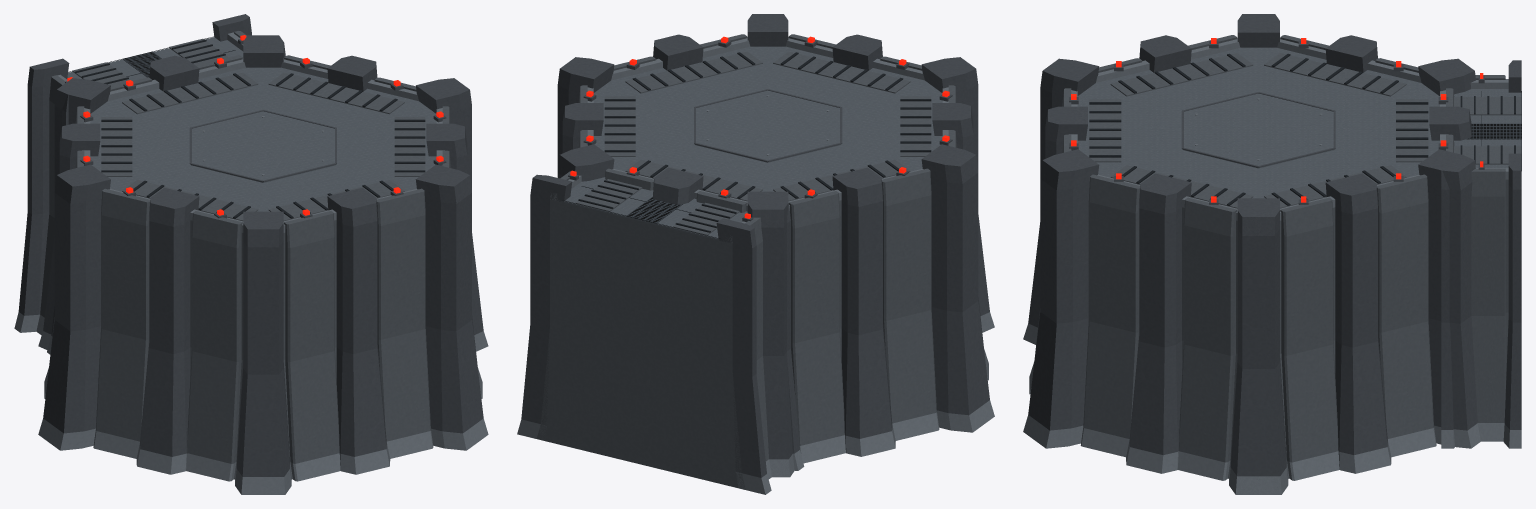
File: terminal.glb
The picture shows the model from 3 angles, left to right: view 1: azimuth 30°, elevation 25°; view 2: azimuth 150°, elevation 25°; view 3: azimuth 270°, elevation 25°; orthographic projection. The views are drawn at different scales.
Parts seen in each view (by area): view 1: terminal-lod0-roof0, terminal-lod0-base0, terminal-lod0-floor0, terminal-lod0-roof0-link-n, terminal-lod0-base0-link-n, terminal-lod0-floor0-link-n; view 2: terminal-lod0-roof0, terminal-lod0-base0-link-n, terminal-lod0-base0, terminal-lod0-floor0-link-n, terminal-lod0-floor0, terminal-lod0-roof0-link-n; view 3: terminal-lod0-roof0, terminal-lod0-base0, terminal-lod0-floor0, terminal-lod0-base0-link-n, terminal-lod0-roof0-link-n, terminal-lod0-floor0-link-n.
Boxes of the visible parts, box(x1,y1,x2,y2) form: terminal-lod0-roof0: box(54, 35, 471, 260); terminal-lod0-base0: box(38, 233, 488, 494); terminal-lod0-floor0: box(54, 119, 471, 374); terminal-lod0-roof0-link-n: box(27, 14, 285, 125); terminal-lod0-base0-link-n: box(14, 212, 54, 354); terminal-lod0-floor0-link-n: box(27, 98, 65, 217); terminal-lod0-roof0: box(557, 14, 978, 240); terminal-lod0-base0-link-n: box(517, 323, 804, 494); terminal-lod0-base0: box(763, 215, 994, 477); terminal-lod0-floor0-link-n: box(530, 208, 790, 376); terminal-lod0-floor0: box(557, 99, 978, 355); terminal-lod0-roof0-link-n: box(530, 151, 790, 261); terminal-lod0-roof0: box(1040, 14, 1475, 249); terminal-lod0-base0: box(1023, 222, 1480, 494); terminal-lod0-floor0: box(1040, 102, 1471, 368); terminal-lod0-base0-link-n: box(1441, 312, 1521, 448); terminal-lod0-roof0-link-n: box(1441, 60, 1521, 203); terminal-lod0-floor0-link-n: box(1441, 193, 1521, 322).
Size of what is drawn, in the model's own units: 70.84 by 40.8 by 68.28.
Materials: 7 (7 with a texture image).
